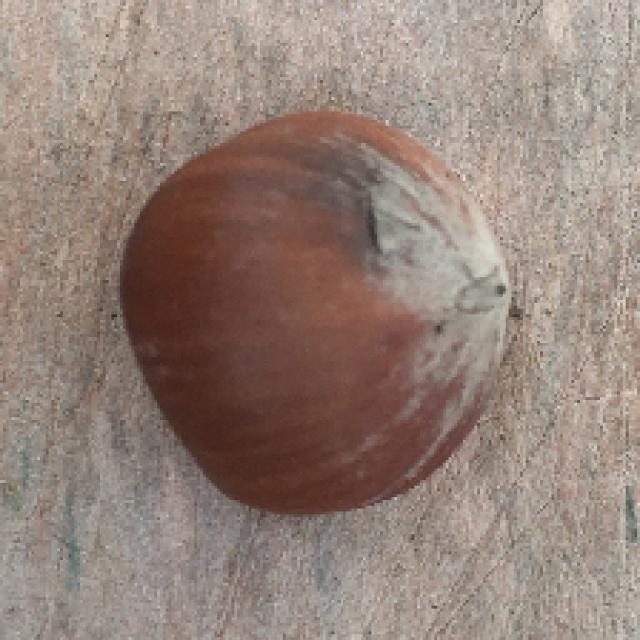qualityHazelnut: (108, 106, 528, 522)
